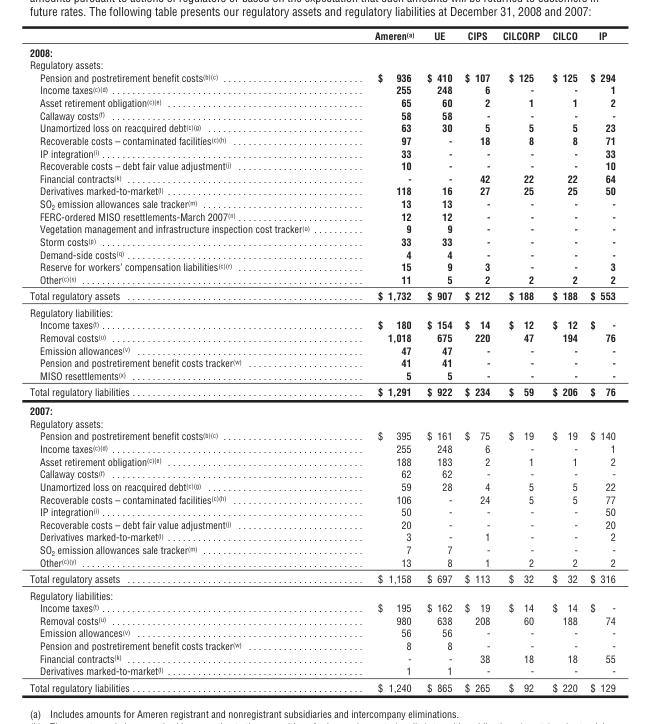table: (28, 29, 614, 693)
table column: (28, 29, 341, 693), (341, 29, 419, 693), (495, 29, 545, 693), (419, 29, 457, 693), (457, 29, 495, 693), (545, 29, 583, 693), (583, 29, 614, 693)
table column header: (28, 29, 614, 43)
table projected row header: (28, 400, 614, 416), (28, 43, 614, 58), (28, 303, 614, 318), (28, 586, 614, 601), (28, 416, 614, 429), (28, 58, 614, 70)
table row: (28, 383, 614, 400), (28, 287, 614, 303), (28, 400, 614, 416), (28, 570, 614, 586), (28, 43, 614, 58), (28, 272, 614, 287), (28, 303, 614, 318), (28, 368, 614, 383), (28, 586, 614, 601), (28, 678, 614, 693), (28, 29, 614, 43), (28, 556, 614, 570), (28, 664, 614, 678), (28, 70, 614, 83), (28, 83, 614, 96), (28, 108, 614, 121), (28, 133, 614, 146), (28, 146, 614, 159), (28, 171, 614, 184), (28, 184, 614, 197), (28, 197, 614, 210), (28, 234, 614, 247), (28, 247, 614, 260), (28, 330, 614, 343), (28, 343, 614, 356), (28, 416, 614, 429), (28, 429, 614, 442), (28, 454, 614, 467), (28, 479, 614, 492), (28, 492, 614, 505), (28, 517, 614, 530), (28, 530, 614, 543), (28, 543, 614, 556), (28, 613, 614, 626), (28, 638, 614, 651), (28, 651, 614, 664), (28, 58, 614, 70), (28, 96, 614, 108), (28, 121, 614, 133), (28, 159, 614, 171), (28, 210, 614, 222), (28, 222, 614, 234), (28, 260, 614, 272), (28, 318, 614, 330), (28, 356, 614, 368), (28, 442, 614, 454), (28, 467, 614, 479), (28, 505, 614, 517), (28, 601, 614, 613), (28, 626, 614, 638)
